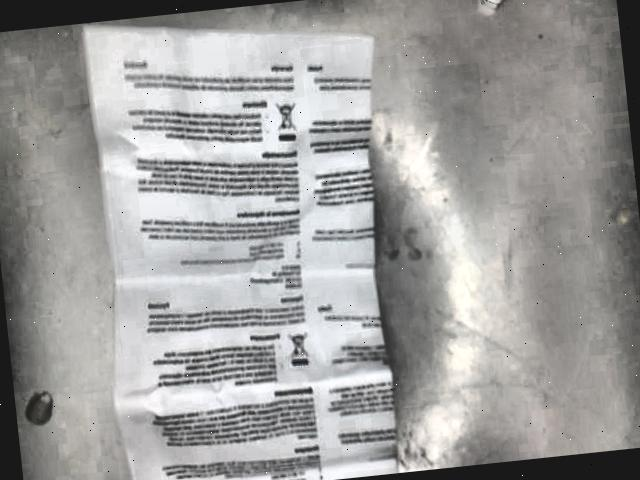Paper: (84, 28, 397, 480)
